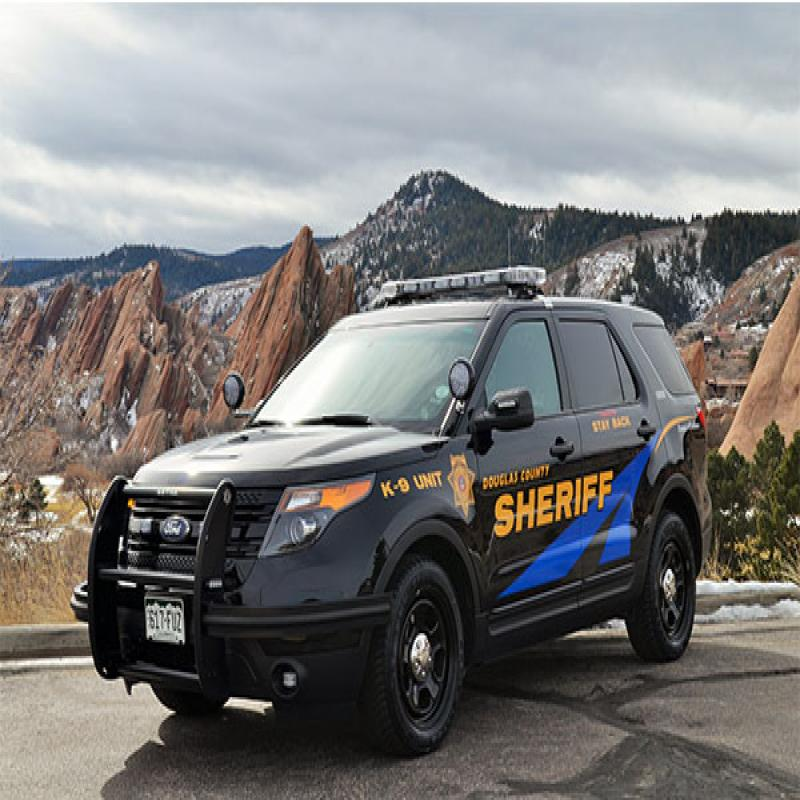AmbulanceSiren: (376, 249, 542, 312)
